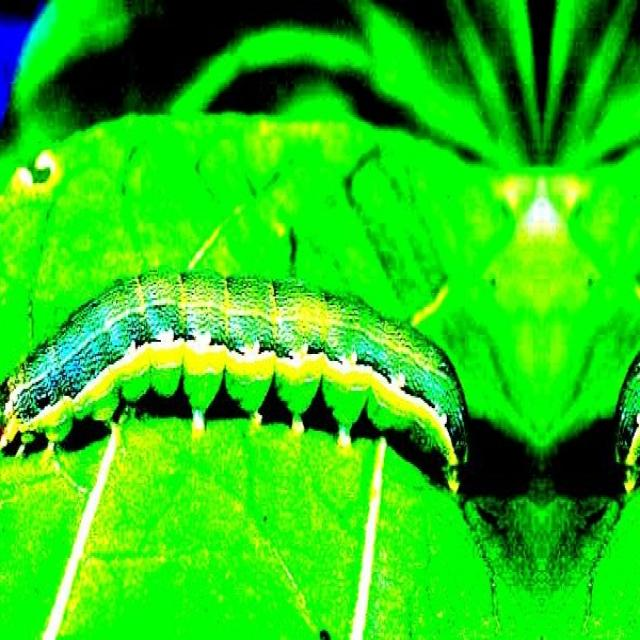Armyworm: (1, 252, 487, 541)
